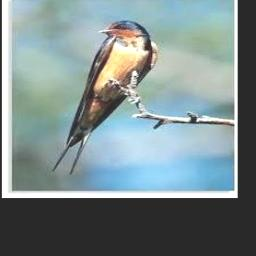Swallow: (52, 20, 158, 174)
